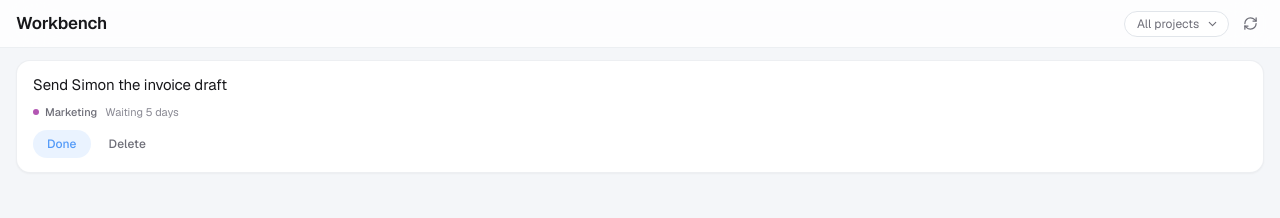
Test: WorkbenchPage — prefill doorway (spec 2026-07-24, round 3 final revision: mint-at-tap) › on mint failure, surfaces an error via the existing openError banner and does NOT navigate
This screenshot has width=1280, height=218.
Click the button with test id "workbench-card-entry-proj-a-e1".
click(130, 84)  # box [16,60,1264,173]
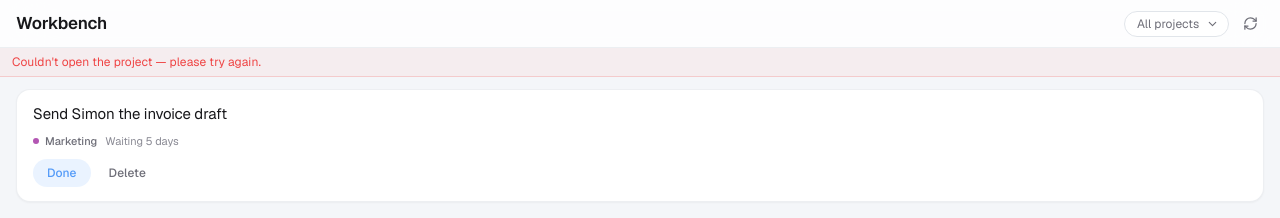
Result: the text "Couldn't open the project — please try again." is shown at [0,48,1279,77]
